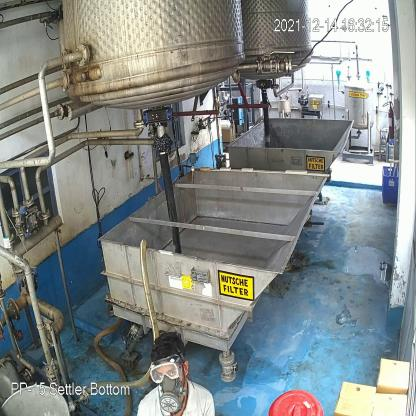goggles: (147, 358, 183, 385)
mask: (156, 375, 189, 413)
